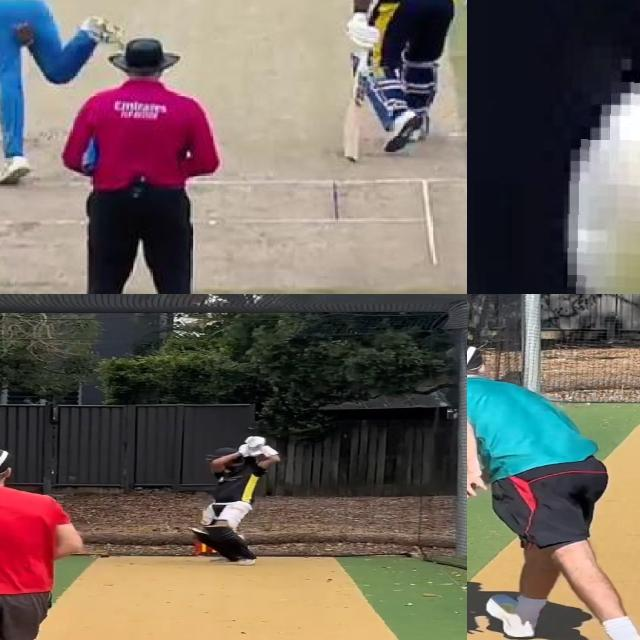Cricket ball: (567, 61, 640, 294)
